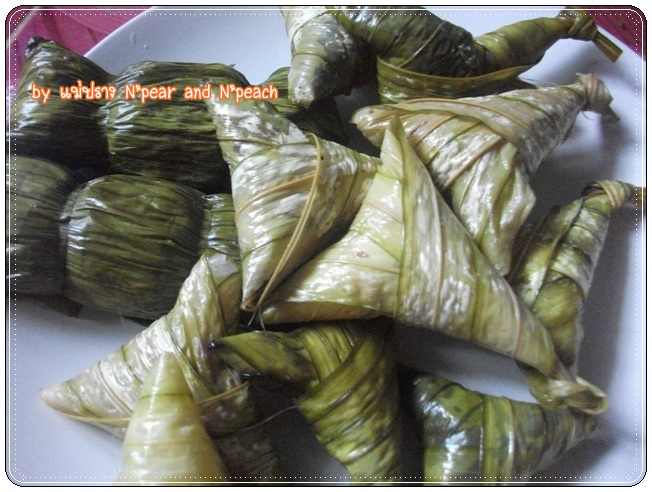kanomtom: (266, 109, 582, 396), (197, 75, 424, 319), (363, 70, 623, 280), (222, 305, 421, 487)
